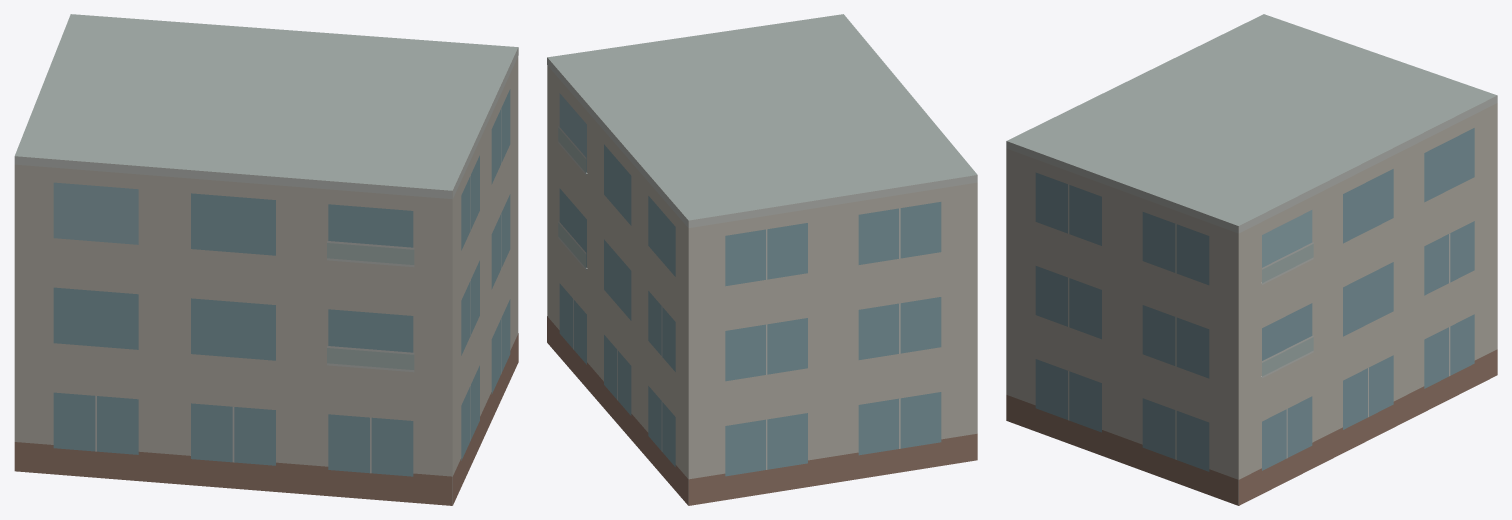
The model's file is survey-upis-32679196.glb.
3 renders of one model, left to right at view 1: azimuth 30°, elevation 25°; view 2: azimuth 150°, elevation 25°; view 3: azimuth 270°, elevation 25°, orthographic. The views are drawn at different scales.
Parts seen in each view (by area): view 1: survey-upis-32679196.tmp; view 2: survey-upis-32679196.tmp; view 3: survey-upis-32679196.tmp.
Part boxes in pixels (<box>): survey-upis-32679196.tmp: <box>14,14,518,505</box>; survey-upis-32679196.tmp: <box>547,14,977,505</box>; survey-upis-32679196.tmp: <box>1006,14,1497,505</box>.
Size of the model in its own units: 14.89 by 9.15 by 14.57.
